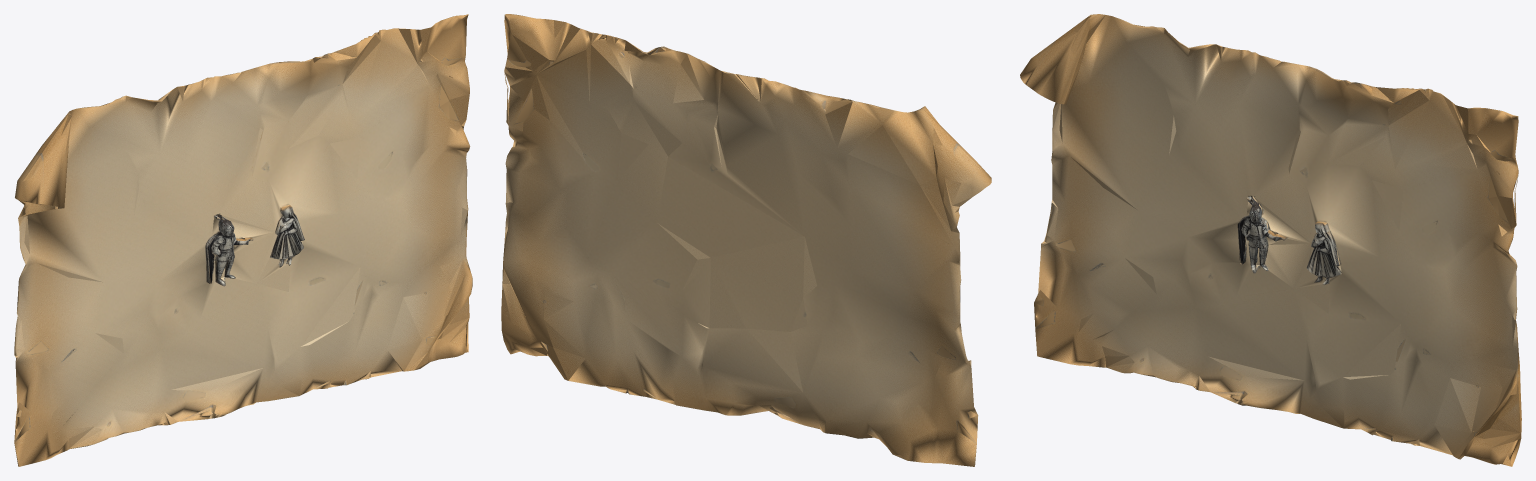
The model's file is modelo.fbx.
3 renders of one model, left to right at view 1: azimuth 30°, elevation 25°; view 2: azimuth 150°, elevation 25°; view 3: azimuth 330°, elevation 25°, orthographic. The views are drawn at different scales.
Visible parts, largest first — view 1: Mesh_0; view 2: Mesh_0; view 3: Mesh_0.
Boxes of the visible parts, bbox=[...] form: Mesh_0: bbox=[14, 14, 472, 466]; Mesh_0: bbox=[501, 14, 991, 466]; Mesh_0: bbox=[1020, 14, 1521, 466].
Size of the model in its own units: 190 by 135 by 18.77.
1 material, 1 textured.
